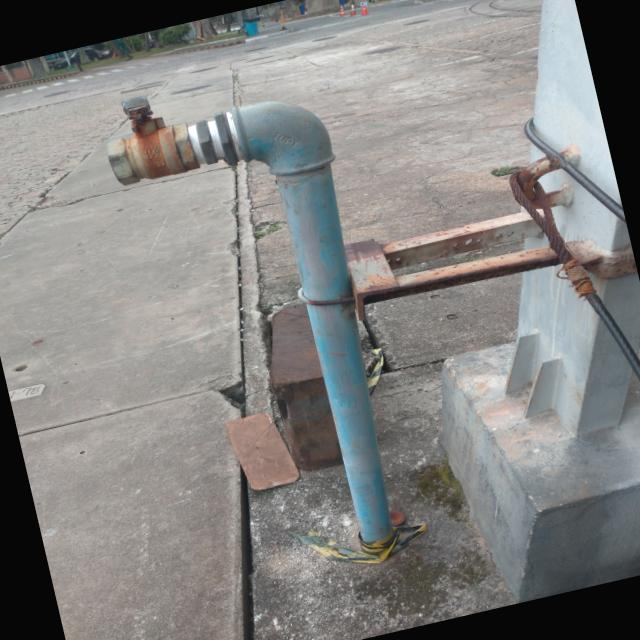gas: (253, 96, 414, 552)
